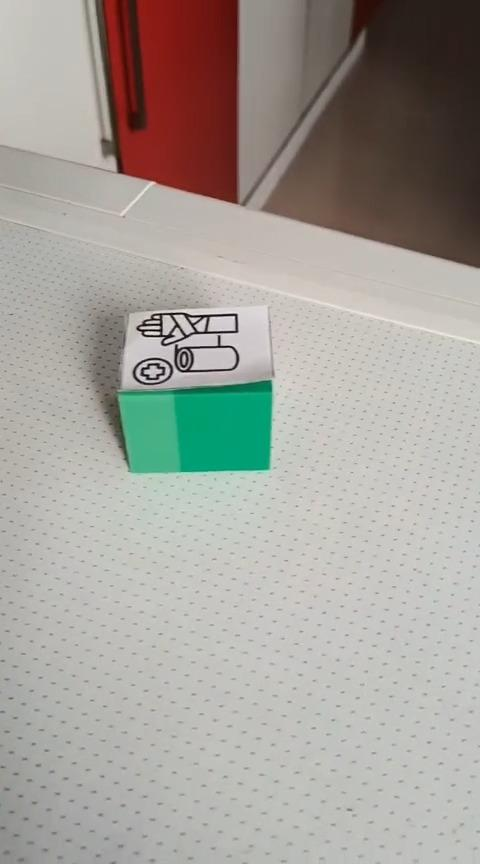Bandages: (117, 306, 276, 474)
